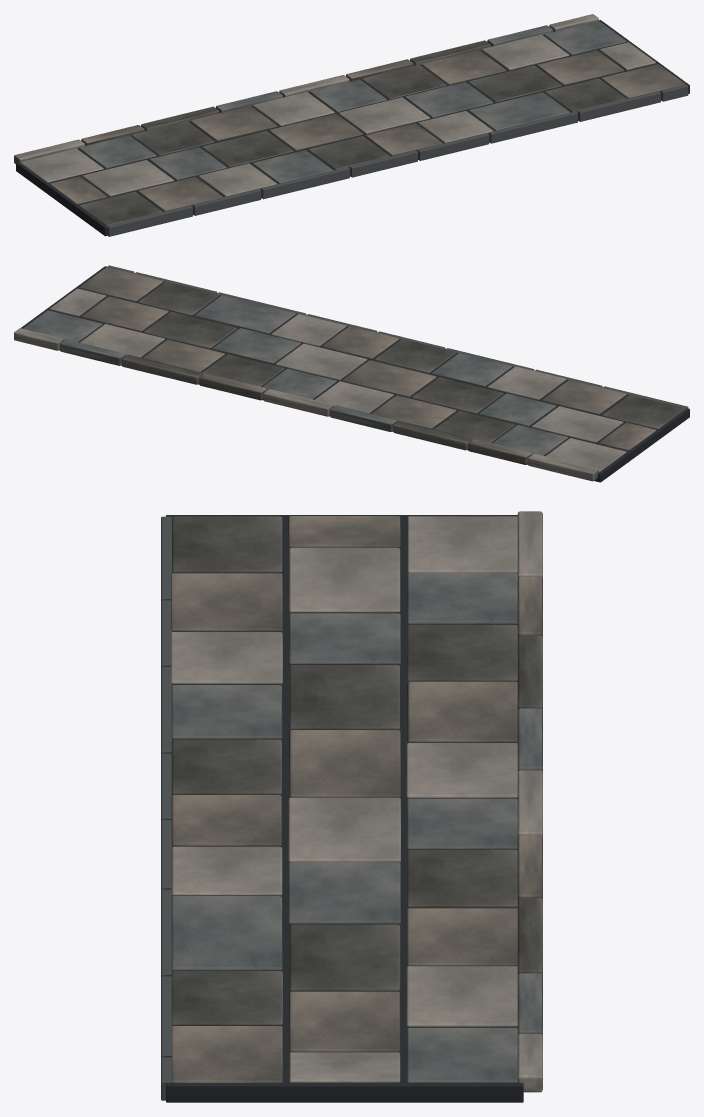
Rendered from terrace-v004.glb.
3 renders of one model, top to bottom at view 1: azimuth 30°, elevation 25°; view 2: azimuth 150°, elevation 25°; view 3: azimuth 270°, elevation 25°, orthographic. The views are drawn at different scales.
Parts seen in each view (by area): view 1: Mortar bed, Laid basalt | course 01 stone 08, Laid basalt | course 02 stone 05, Laid basalt | course 02 stone 08, Laid basalt | course 02 stone 06, Laid basalt | course 02 stone 02, Laid basalt | course 02 stone 04, Laid basalt | course 02 stone 07, Laid basalt | course 03 stone 09, Laid basalt | course 03 stone 04, Laid basalt | course 02 stone 09, Laid basalt | course 03 stone 08 (+35 smaller); view 2: Mortar bed, Laid basalt | course 01 stone 08, Laid basalt | course 02 stone 05, Laid basalt | course 02 stone 08, Laid basalt | course 02 stone 06, Laid basalt | course 02 stone 02, Laid basalt | course 02 stone 04, Laid basalt | course 02 stone 07, Laid basalt | course 02 stone 09, Laid basalt | course 01 stone 02, Laid basalt | course 01 stone 10, Laid basalt | course 01 stone 01 (+28 smaller); view 3: Mortar bed, Laid basalt | course 01 stone 08, Laid basalt | course 02 stone 05, Laid basalt | course 02 stone 08, Laid basalt | course 02 stone 06, Laid basalt | course 02 stone 02, Laid basalt | course 02 stone 04, Laid basalt | course 02 stone 07, Laid basalt | course 03 stone 04, Laid basalt | course 03 stone 09, Laid basalt | course 02 stone 09, Laid basalt | course 01 stone 02 (+32 smaller).
Boxes of the visible parts, x1,y1,x2,y2 form: Mortar bed: (16, 20, 689, 236); Laid basalt | course 01 stone 08: (468, 92, 569, 130); Laid basalt | course 02 stone 05: (269, 113, 363, 150); Laid basalt | course 02 stone 08: (468, 65, 561, 101); Laid basalt | course 02 stone 06: (338, 97, 429, 133); Laid basalt | course 02 stone 02: (82, 160, 173, 196); Laid basalt | course 02 stone 04: (202, 131, 293, 167); Laid basalt | course 02 stone 07: (404, 82, 493, 117); Laid basalt | course 03 stone 09: (481, 34, 569, 70); Laid basalt | course 03 stone 04: (190, 106, 277, 141); Laid basalt | course 02 stone 09: (537, 50, 624, 85); Laid basalt | course 03 stone 08: (421, 50, 506, 84); Mortar bed: (20, 266, 689, 482); Laid basalt | course 01 stone 08: (194, 295, 295, 333); Laid basalt | course 02 stone 05: (342, 360, 436, 397); Laid basalt | course 02 stone 08: (144, 311, 237, 348); Laid basalt | course 02 stone 06: (275, 343, 367, 380); Laid basalt | course 02 stone 02: (532, 406, 623, 442); Laid basalt | course 02 stone 04: (412, 377, 503, 413); Laid basalt | course 02 stone 07: (212, 328, 301, 363); Laid basalt | course 02 stone 09: (81, 296, 168, 331); Laid basalt | course 01 stone 02: (541, 380, 626, 414); Laid basalt | course 01 stone 10: (79, 267, 163, 301); Laid basalt | course 01 stone 01: (602, 395, 685, 428); Mortar bed: (166, 515, 523, 1102); Laid basalt | course 01 stone 08: (171, 896, 282, 970); Laid basalt | course 02 stone 05: (289, 730, 400, 797); Laid basalt | course 02 stone 08: (289, 924, 400, 990); Laid basalt | course 02 stone 06: (288, 797, 400, 862); Laid basalt | course 02 stone 02: (289, 547, 400, 612); Laid basalt | course 02 stone 04: (289, 664, 399, 729); Laid basalt | course 02 stone 07: (288, 862, 400, 923); Laid basalt | course 03 stone 04: (407, 681, 517, 742); Laid basalt | course 03 stone 09: (406, 966, 517, 1026); Laid basalt | course 02 stone 09: (289, 991, 400, 1051); Laid basalt | course 01 stone 02: (170, 573, 282, 631).
Bounding box in the file's own units: 47 × 0.965 × 13.28.
3 materials, 1 textured.
